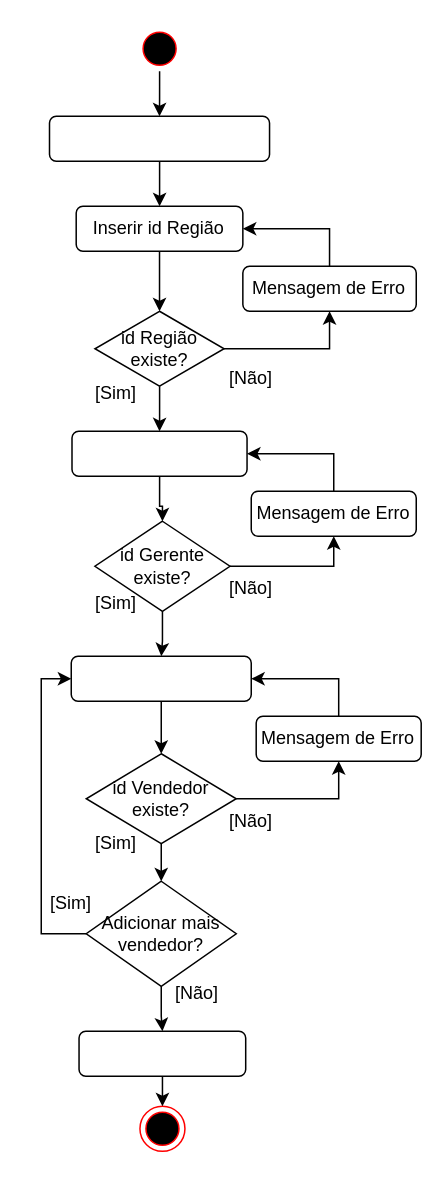
The diagram is 447 pixels wide and 1178 high, and some of its shapes have lost their labels. Each missing label, with the centre of its shape:
"Inserir id Gerente" belongs at [158,453].
"Inserir id Vendedor" belongs at [160,678].
"Inserir nome da equipe" belongs at [159,138].
"Salvar equipe" belongs at [162,1053].
